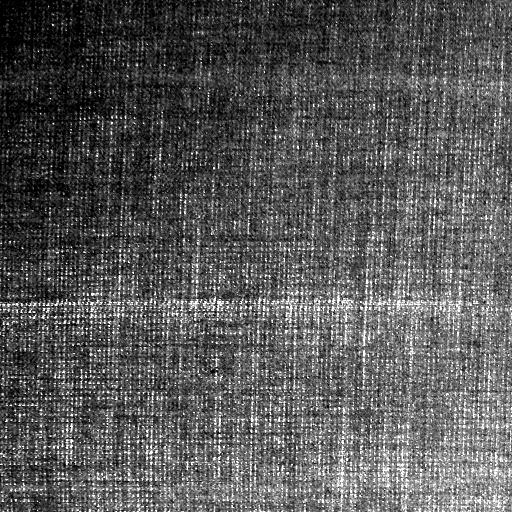fabric_missing_pick: (7, 298, 495, 316)
